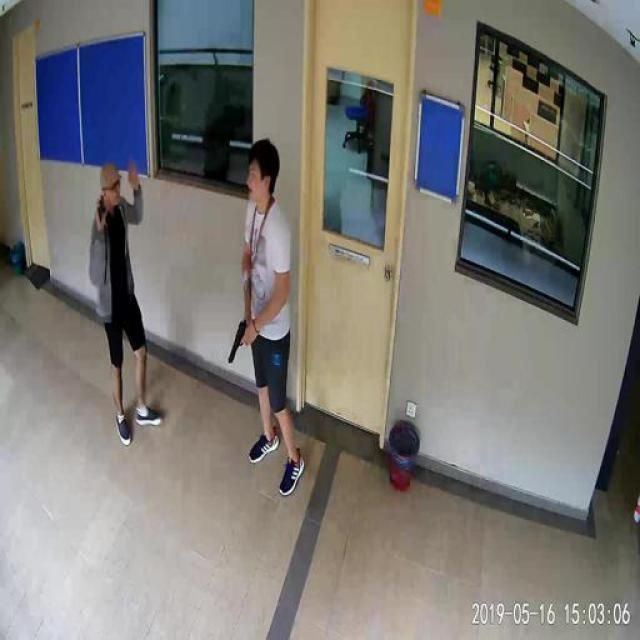weapon: (226, 318, 256, 364)
